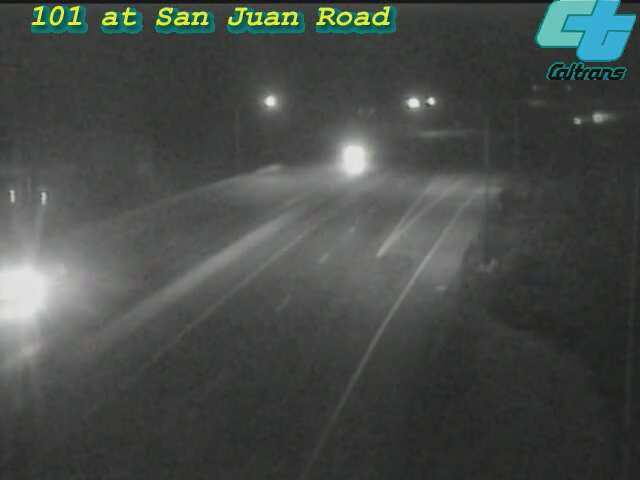vehicle: (310, 120, 390, 200), (1, 247, 58, 327), (577, 91, 627, 141)
